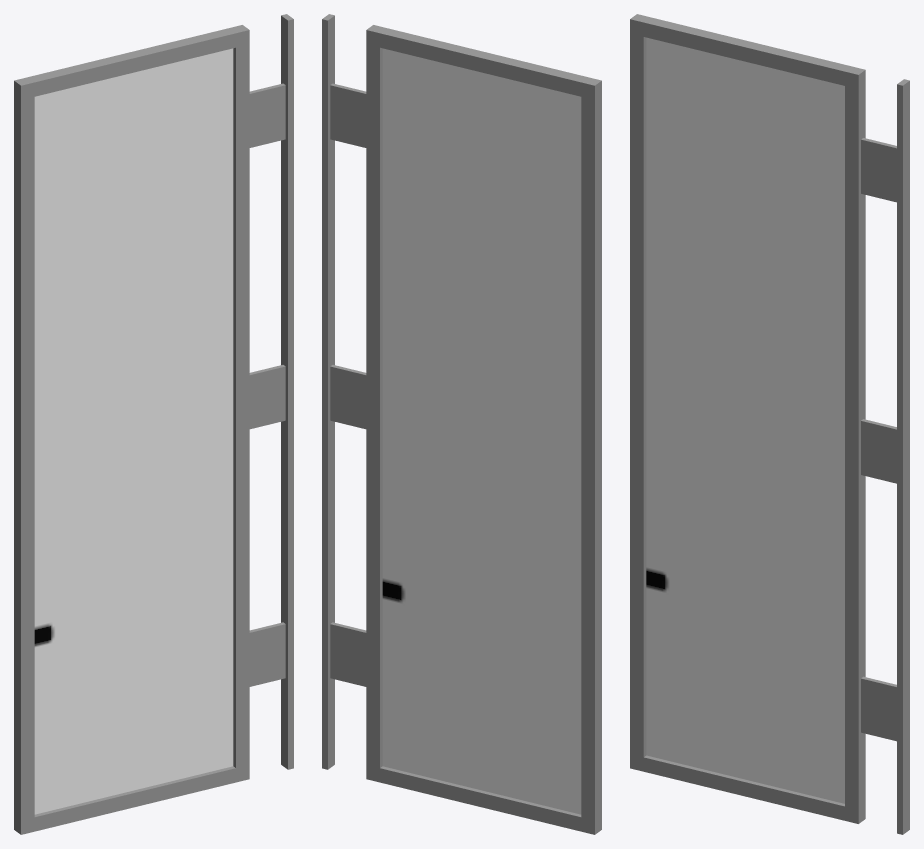
File: Signboard3.fbx
The picture shows the model from 3 angles, left to right: view 1: azimuth 30°, elevation 25°; view 2: azimuth 150°, elevation 25°; view 3: azimuth 330°, elevation 25°; orthographic projection.
Parts seen in each view (by area): view 1: Signboard3; view 2: Signboard3; view 3: Signboard3.
Part boxes in pixels (box(x1,y1,x2,y2)): Signboard3: box(14, 14, 293, 834); Signboard3: box(322, 14, 601, 834); Signboard3: box(630, 14, 909, 834).
Size of the model in its own units: 222 by 584 by 10.
